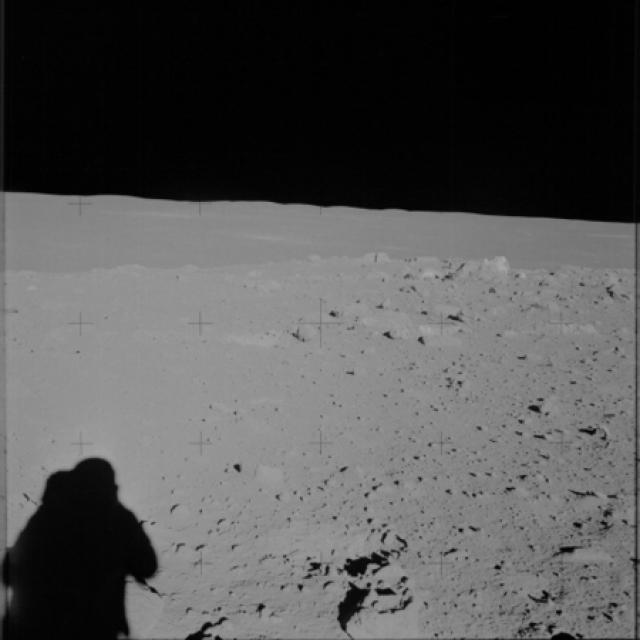rock: (333, 546, 448, 639), (441, 250, 522, 290), (552, 538, 628, 576), (529, 312, 608, 340), (179, 610, 245, 639), (526, 391, 570, 424), (588, 278, 638, 304), (248, 462, 292, 490), (419, 329, 465, 352), (582, 414, 613, 446), (286, 318, 312, 352), (382, 321, 416, 346), (168, 492, 198, 518), (452, 302, 478, 327), (169, 534, 191, 559), (406, 266, 445, 280), (319, 298, 341, 322), (354, 305, 378, 327), (535, 273, 560, 292)
